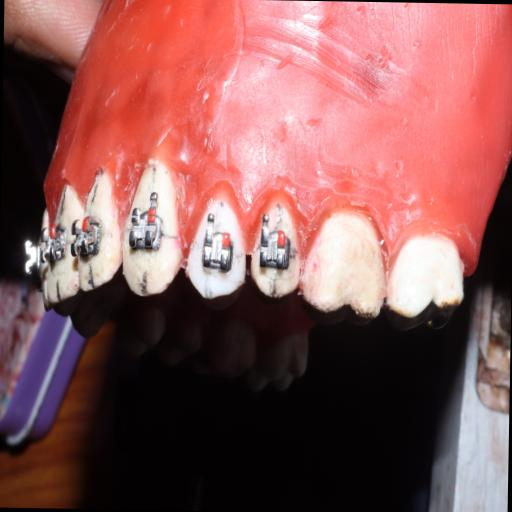correct_brace: (191, 194, 247, 300)
